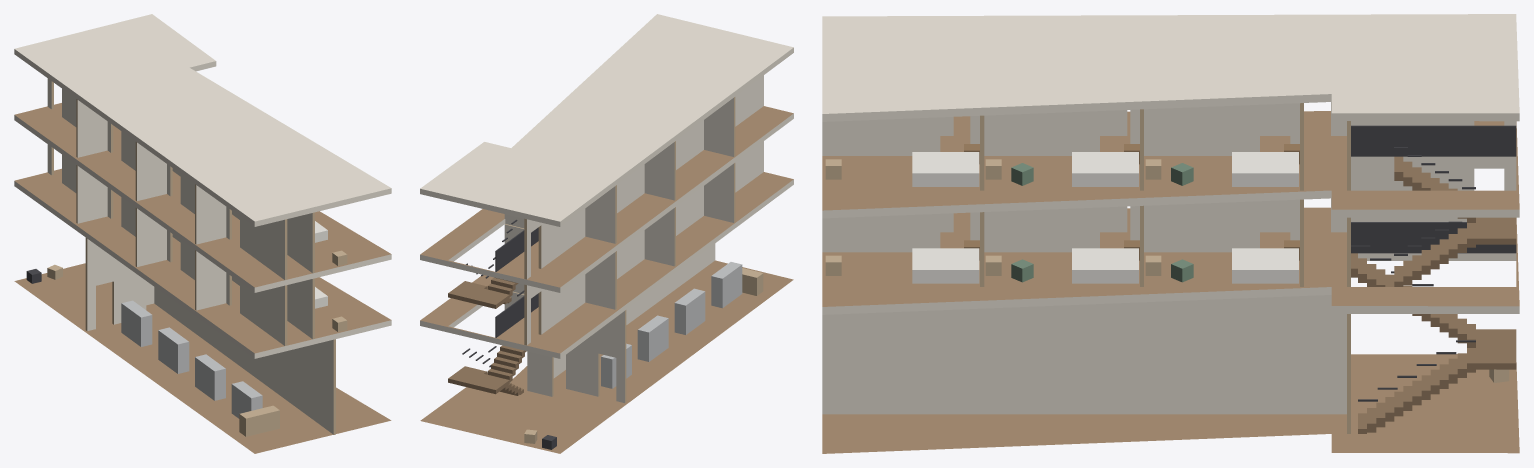
Rendered from interior.glb.
The picture shows the model from 3 angles, left to right: view 1: azimuth 30°, elevation 25°; view 2: azimuth 150°, elevation 25°; view 3: azimuth 270°, elevation 25°; orthographic projection. The views are drawn at different scales.
Parts seen in each view (by area): view 1: slabs, partitions, coarse-s0, coarse-s1, coarse-s2; view 2: slabs, partitions, stair, coarse-s0; view 3: slabs, partitions, stair, coarse-s1, coarse-s2.
Part boxes in pixels (box(x1,y1,x2,y2)): slabs: box(14, 14, 391, 453); partitions: box(47, 78, 335, 434); coarse-s0: box(26, 264, 279, 436); coarse-s1: box(315, 287, 347, 331); coarse-s2: box(315, 221, 347, 265); slabs: box(420, 14, 793, 453); partitions: box(504, 75, 763, 403); stair: box(448, 219, 538, 395); coarse-s0: box(524, 262, 763, 449); slabs: box(822, 14, 1519, 453); partitions: box(822, 102, 1516, 433); stair: box(1351, 125, 1516, 433); coarse-s1: box(825, 240, 1299, 283); coarse-s2: box(825, 144, 1299, 186).
Size of the model in its own units: 7.05 by 11.19 by 20.77.
